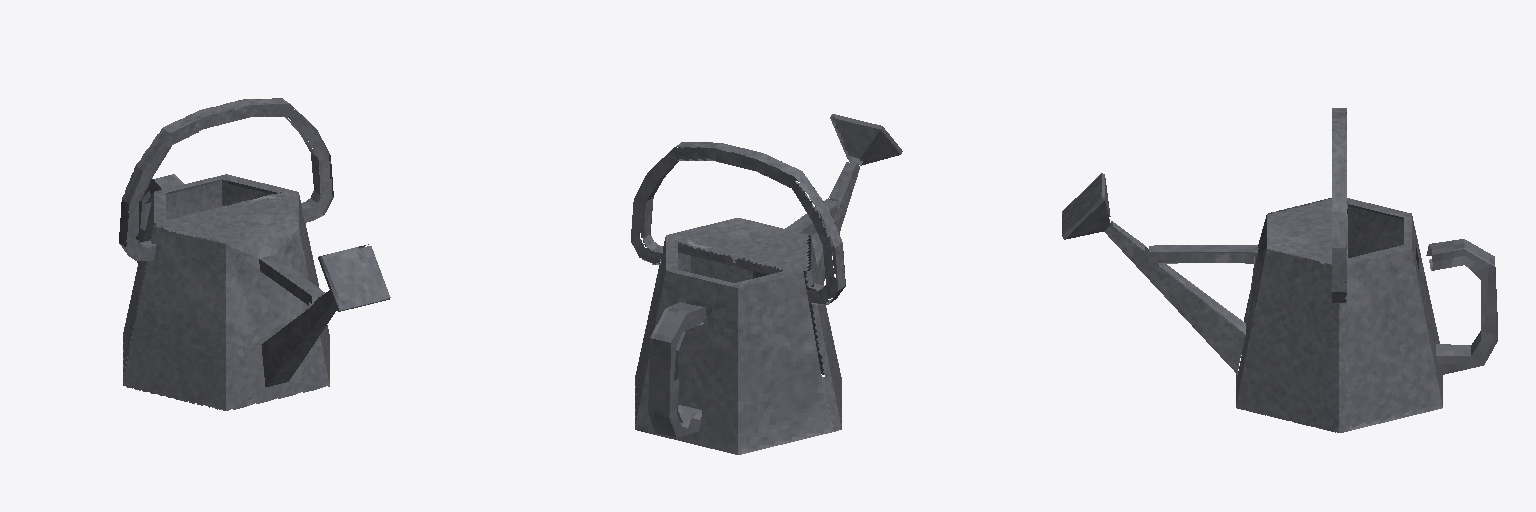
The picture shows the model from 3 angles: view 1: azimuth 30°, elevation 25°; view 2: azimuth 150°, elevation 25°; view 3: azimuth 270°, elevation 25°; orthographic projection.
Parts seen in each view (by area): view 1: pCylinder1; view 2: pCylinder1; view 3: pCylinder1.
Part boxes in pixels (x1,y1,x2,y2): pCylinder1: (119, 98, 390, 410); pCylinder1: (631, 114, 902, 454); pCylinder1: (1062, 108, 1497, 432).
Bounding box in the file's own units: 1.02 × 1.19 × 1.86.
Materials: 1 (1 with a texture image).